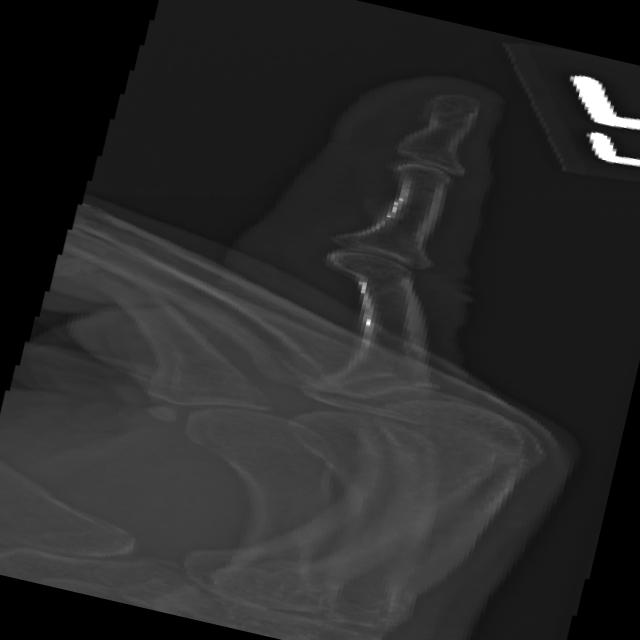fingers positive: (148, 421, 364, 480)
